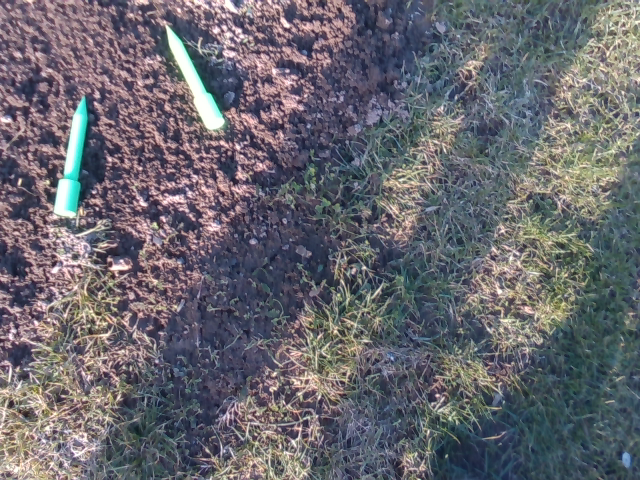Probe: (161, 18, 230, 139), (48, 92, 97, 218)
